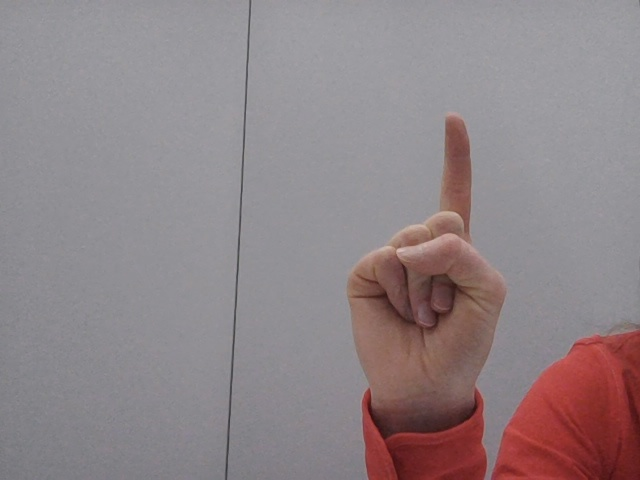up: (329, 103, 518, 473)
